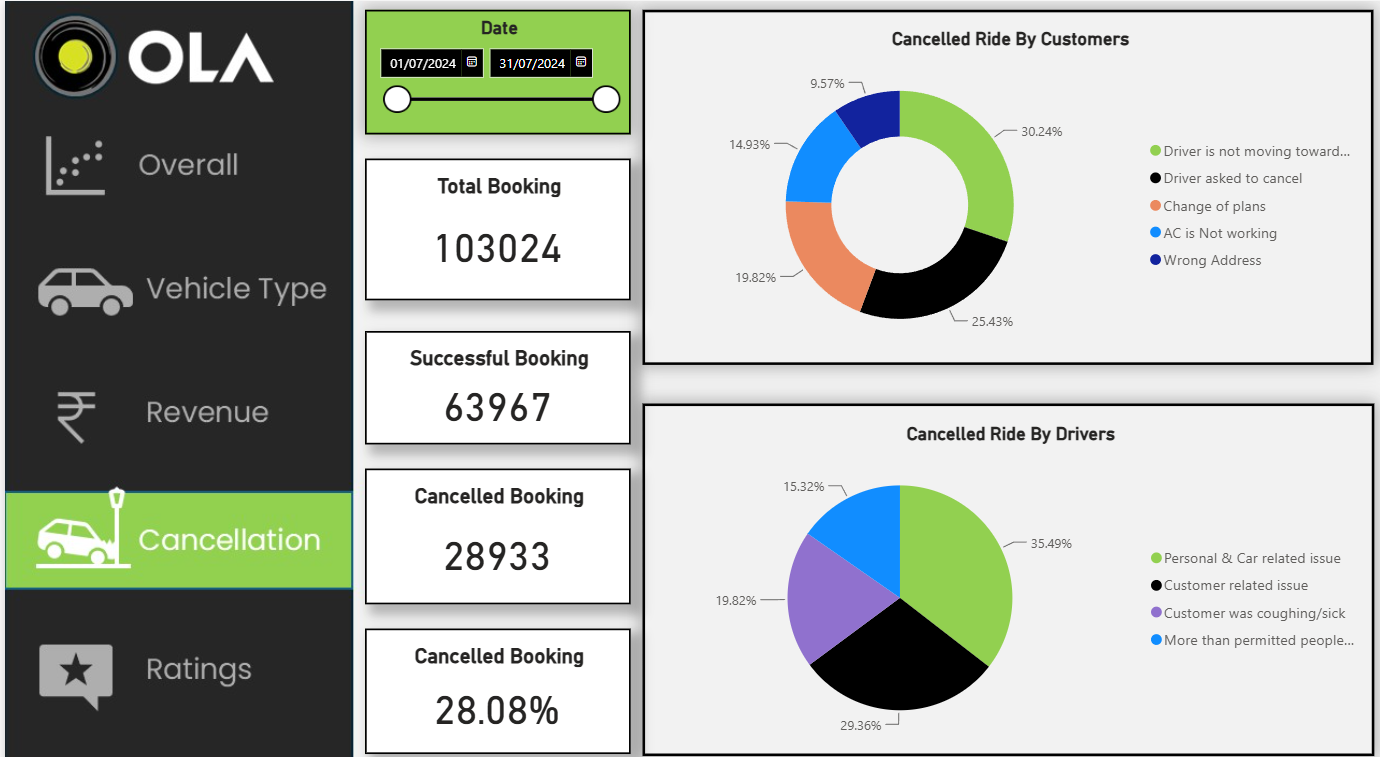

The page's visual inventory and layout, read from the dashboard file:
{"tool":"powerbi","page":{"name":"Cancellation","canvas":[1280,720],"ordinal":3},"visuals":[{"type":"actionButton","box":[1.1,108,323.9,92.4],"z":0},{"type":"actionButton","box":[0,221.5,323.9,92.4],"z":1000},{"type":"actionButton","box":[1.1,583.3,323.9,92.4],"z":2000},{"type":"actionButton","box":[0,338.4,323.9,92.4],"z":3000},{"type":"donutChart","title":"Cancelled Ride By Customers","fields":{"Y":["CountNonNull(July.Canceled_Rides_by_Customer)"],"Category":["July.Canceled_Rides_by_Customer"]},"box":[593.3,7.8,680.2,330.6],"z":4000},{"type":"pieChart","title":"Cancelled Ride By Drivers","fields":{"Category":["July.Canceled_Rides_by_Driver"],"Y":["CountNonNull(July.Canceled_Rides_by_Driver)"]},"box":[592.8,374.6,680.6,328],"z":5000},{"type":"card","title":"Total Booking","fields":{"Values":["CountNonNull(July.Booking_ID)"]},"box":[334.8,146.8,247,131.7],"z":6000},{"type":"slicer","title":"Date","fields":{"Values":["July.Date"]},"box":[335.1,7.8,247.1,115.8],"z":7000},{"type":"card","title":"Successful Booking","fields":{"Values":["CountNonNull(July.Booking_ID)"]},"box":[334.8,307.4,247,105.7],"z":8000},{"type":"card","title":"Cancelled Booking","fields":{"Values":["CountNonNull(July.Booking_ID)"]},"box":[334.8,435,247,126.2],"z":9000},{"type":"card","title":"Cancelled Booking","fields":{"Values":["July.Canceled%"]},"box":[334.8,583.2,247,116.6],"z":10000}]}

Visuals, with their boxes in screenshot pixels (x1, y1, x2, y2), scaled from the page's 1280x720 canvas onto the 1380x757 screenshot:
actionButton: [left=1, top=114, right=350, bottom=211]
actionButton: [left=0, top=233, right=349, bottom=330]
actionButton: [left=1, top=613, right=350, bottom=710]
actionButton: [left=0, top=356, right=349, bottom=453]
"Cancelled Ride By Customers" donutChart: [left=640, top=8, right=1373, bottom=356]
"Cancelled Ride By Drivers" pieChart: [left=639, top=394, right=1373, bottom=739]
"Total Booking" card: [left=361, top=154, right=627, bottom=293]
"Date" slicer: [left=361, top=8, right=628, bottom=130]
"Successful Booking" card: [left=361, top=323, right=627, bottom=434]
"Cancelled Booking" card: [left=361, top=457, right=627, bottom=590]
"Cancelled Booking" card: [left=361, top=613, right=627, bottom=736]
